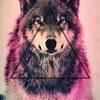Lobo: (11, 1, 91, 76)
